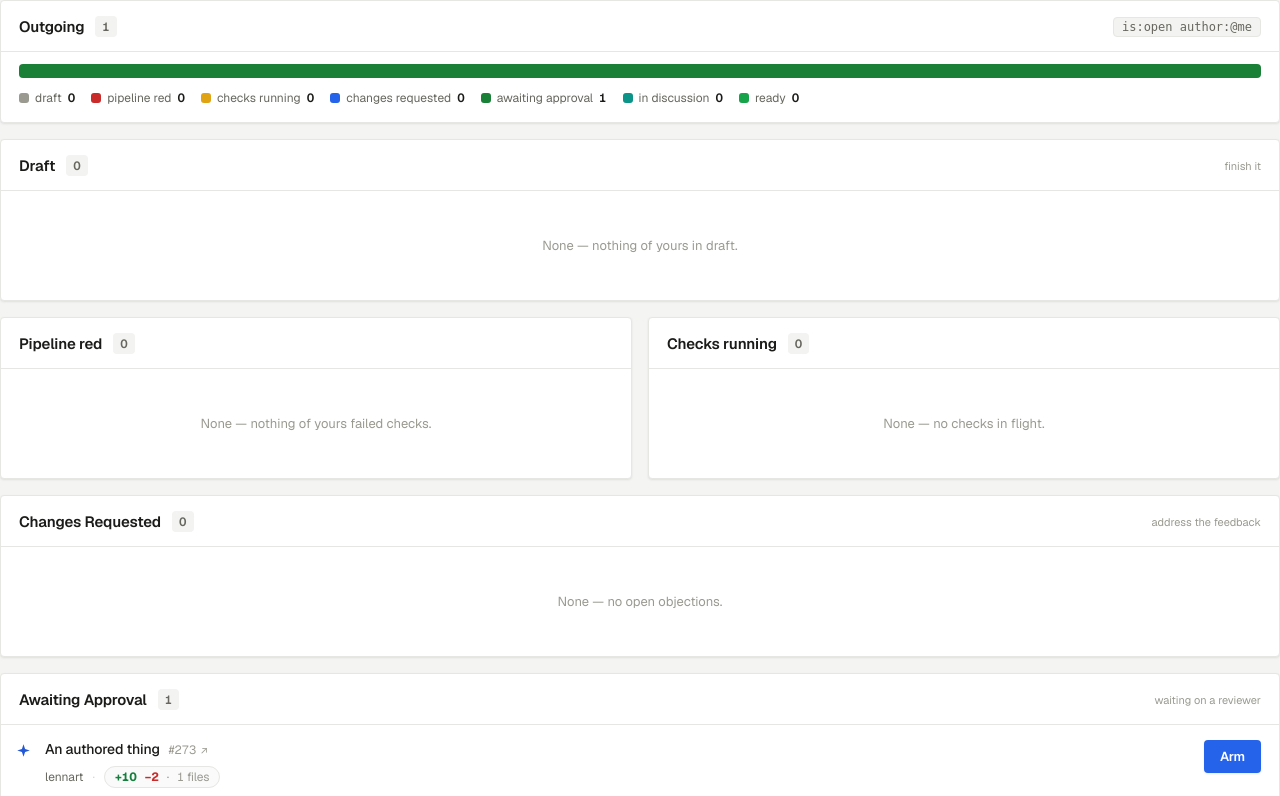
Scenario: Outbound funnel — Arm/Disarm toggle › surfaces an arm error
Click the button with aria-label "arm #273". click: point(1232, 756)
box: [1204,740,1261,773]
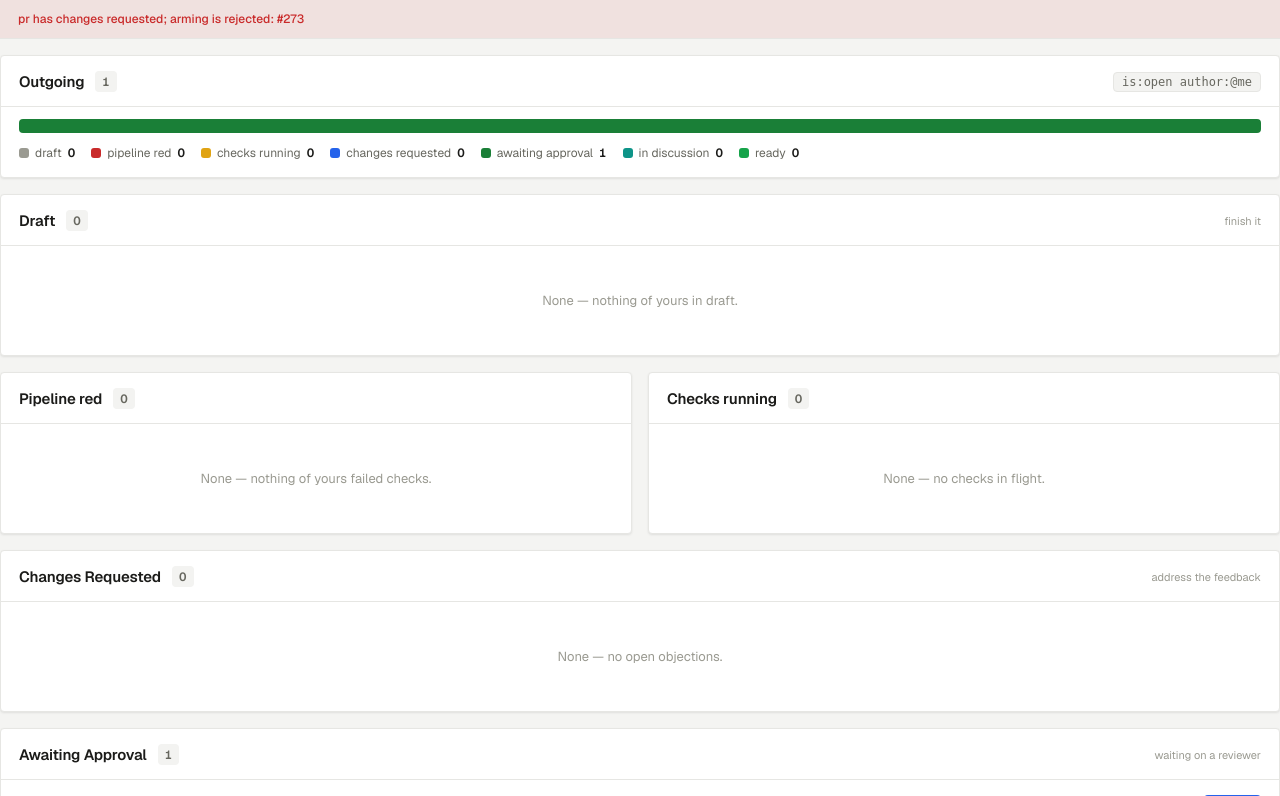
Expected: the message shows "changes requested", [18,11,304,27]
